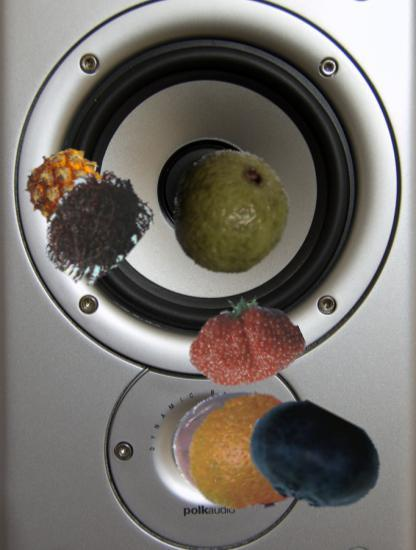Blueberry: (246, 390, 382, 526)
Guava: (167, 149, 294, 276)
Mandarine: (186, 379, 329, 522)
Passion: (172, 383, 302, 513)
Pineapple: (24, 148, 115, 239)
Rambutan: (36, 167, 153, 284)
Strawberry: (186, 285, 300, 399)
